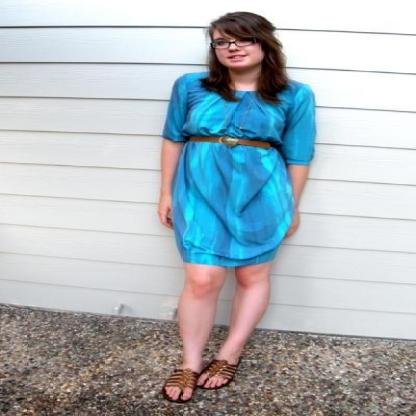dress: (162, 72, 322, 266)
shoe: (159, 349, 247, 403)
